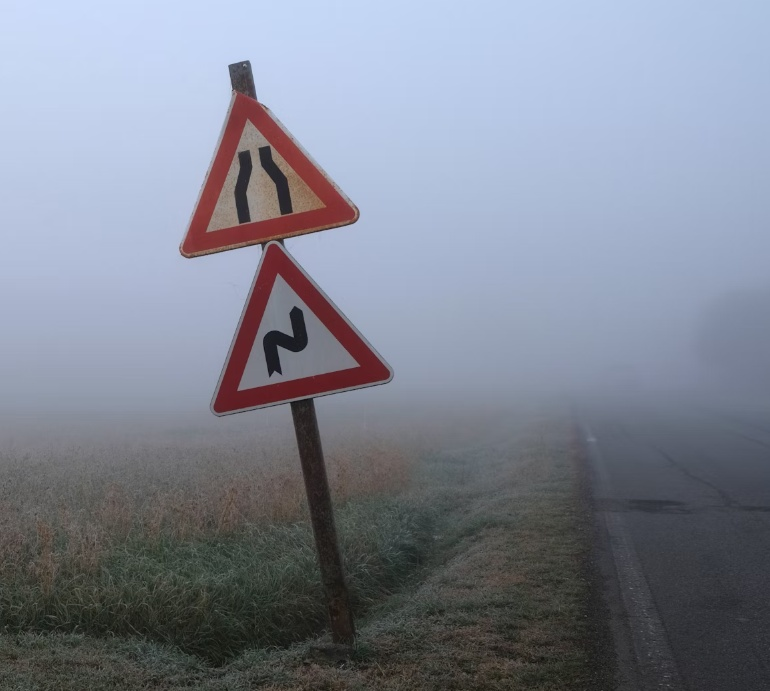Curve Road: (191, 240, 402, 404)
Narrow road ahead: (155, 82, 361, 250)
